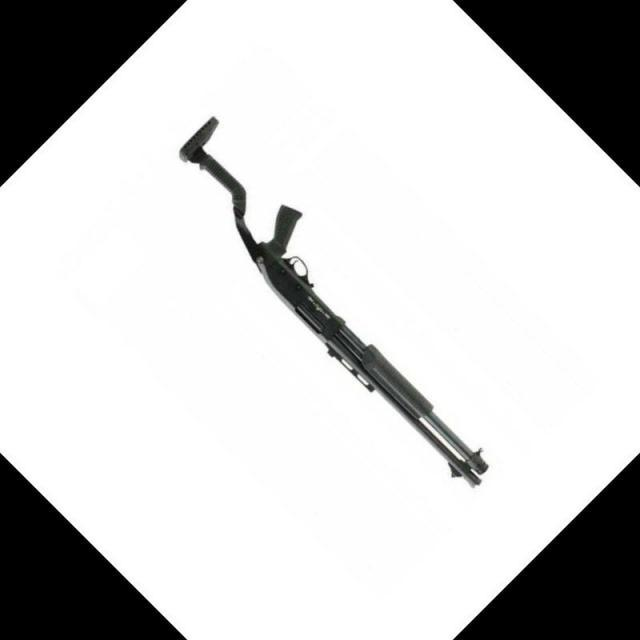weapon: (179, 116, 490, 490)
